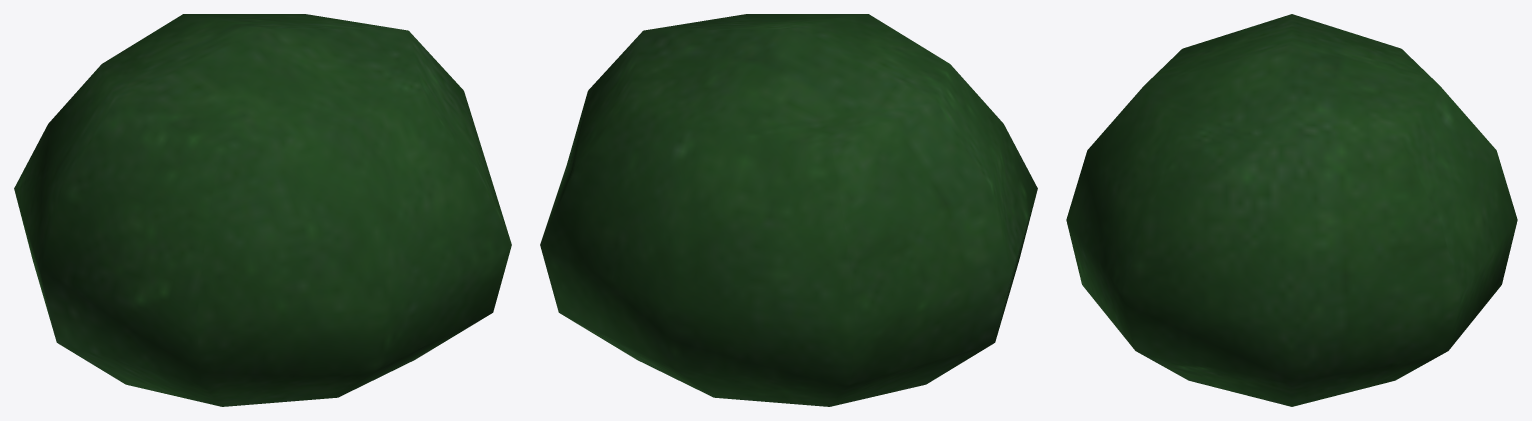
File: Australia_Bush.fbx
3 renders of one model, left to right at view 1: azimuth 30°, elevation 25°; view 2: azimuth 150°, elevation 25°; view 3: azimuth 270°, elevation 25°, orthographic. The views are drawn at different scales.
Parts seen in each view (by area): view 1: Bush; view 2: Bush; view 3: Bush.
Boxes of the visible parts, x1,y1,x2,y2 form: Bush: (14, 14, 511, 406); Bush: (540, 14, 1037, 406); Bush: (1066, 14, 1517, 406).
Size of the model in its own units: 0.8952 by 0.6196 by 0.848.
